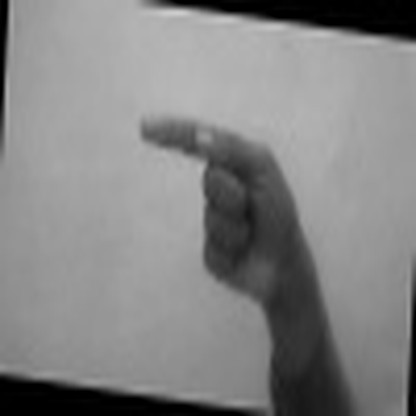g: (109, 107, 329, 295)
